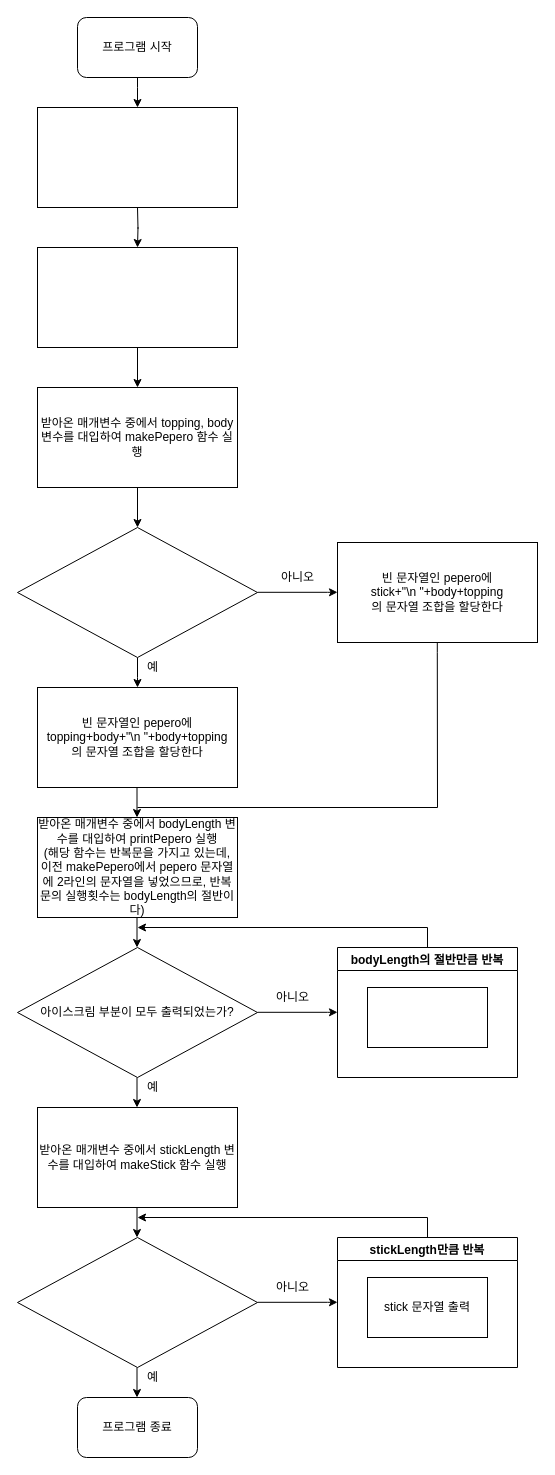
Some shapes in this 555 by 1475 pixel diagram are drawn without their labels. Here are the shapes that lost their labels. From the top down, the centre of each, then its label:
pixel 137 157: 매개변수를 받고 initPepero 함수 실행
pixel 137 297: 받아온 매개변수를 printInfo 함수에 대입해서 매개변수 정보 출력
pixel 137 592: body 문자열이 "***" 와 동일한가?
pixel 427 1017: pepero 문자열 출력
pixel 137 1302: 스틱 부분이 모두 출력되었는가?
